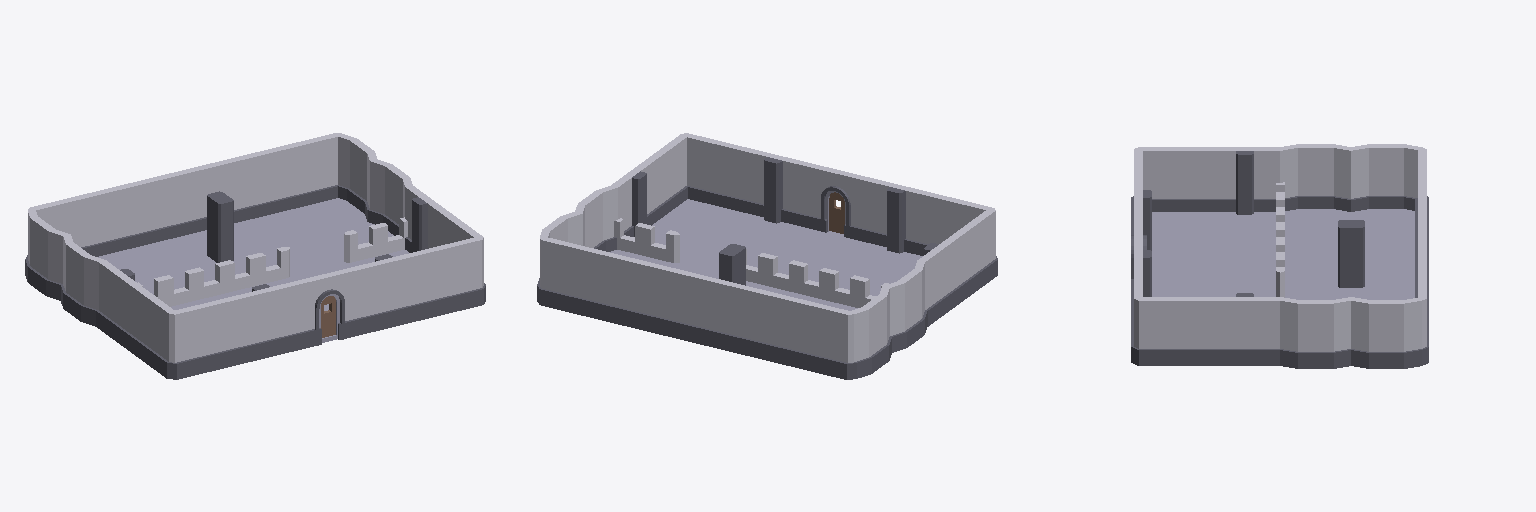
Rendered from room_sm_02.obj.
3 views of the same model, side by side, from view 1: azimuth 30°, elevation 25°; view 2: azimuth 150°, elevation 25°; view 3: azimuth 270°, elevation 25° (orthographic).
Visible parts, largest first — view 1: wall_01_40, wall_01_39, wall_02_38, wall_02_37, door_01_23, wall_01_69, wall_01_46, floor_05_61, wall_01_68, wall_01_67, wall_02_66, wall_03_57 (+16 smaller); view 2: floor_01_30, wall_01_45, wall_01_46, wall_01_69, wall_01_67, wall_01_68, wall_02_37, wall_02_38, door_01_23, wall_01_39, wall_02_66, wall_03_58 (+14 smaller); view 3: floor_01_33, wall_02_65, wall_03_55, wall_03_56, wall_01_50, wall_02_66, wall_03_57, wall_03_58, wall_01_41, floor_05_59, floor_04_2, floor_05_60 (+6 smaller).
Part boxes in pixels (x1,y1,x2,y2): wall_01_40: (167,297,237,379); wall_01_39: (415,237,485,319); wall_02_38: (231,282,299,364); wall_02_37: (355,252,422,334); door_01_23: (294,267,361,349); wall_01_69: (90,178,157,256); wall_01_46: (274,133,341,211); floor_05_61: (234,198,369,251); wall_01_68: (153,163,217,241); wall_01_67: (212,148,280,222); wall_02_66: (96,260,140,352); wall_03_57: (61,234,105,326); floor_01_30: (652,199,807,271); wall_01_45: (785,297,856,379); wall_01_46: (537,237,607,319); wall_01_69: (724,282,791,364); wall_01_67: (601,252,669,334); wall_01_68: (663,267,729,349); wall_02_37: (742,148,810,226); wall_02_38: (866,178,934,255); door_01_23: (804,163,872,241); wall_01_39: (682,133,749,211); wall_02_66: (917,234,962,326); wall_03_58: (847,287,891,378); floor_01_33: (1152,212,1275,270); wall_02_65: (1207,293,1281,365); wall_03_55: (1277,297,1354,368); wall_03_56: (1351,297,1428,368); wall_01_50: (1131,297,1211,365); wall_02_66: (1209,147,1283,214); wall_03_57: (1277,144,1354,211); wall_03_58: (1347,144,1428,211); wall_01_41: (1137,147,1212,211); floor_05_59: (1285,209,1355,270); floor_04_2: (1152,267,1275,296); floor_05_60: (1347,209,1414,270).
Bounding box in the file's own units: 5.41 × 1 × 4.21.